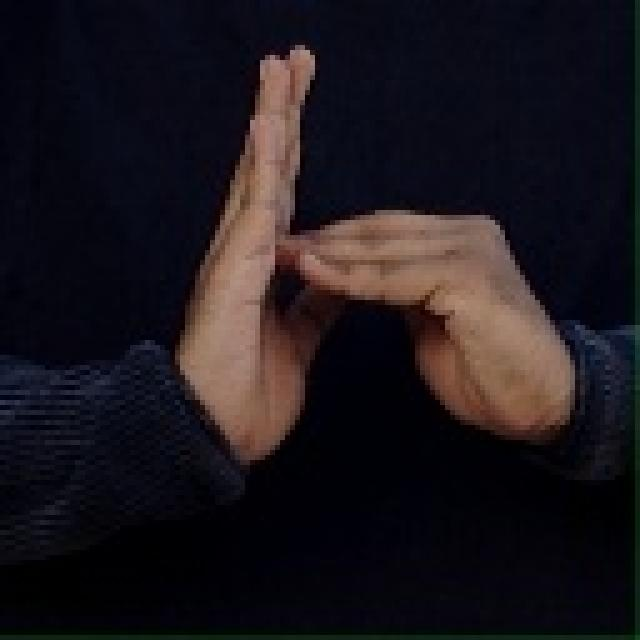Alphabet-Z: (166, 30, 589, 515)
